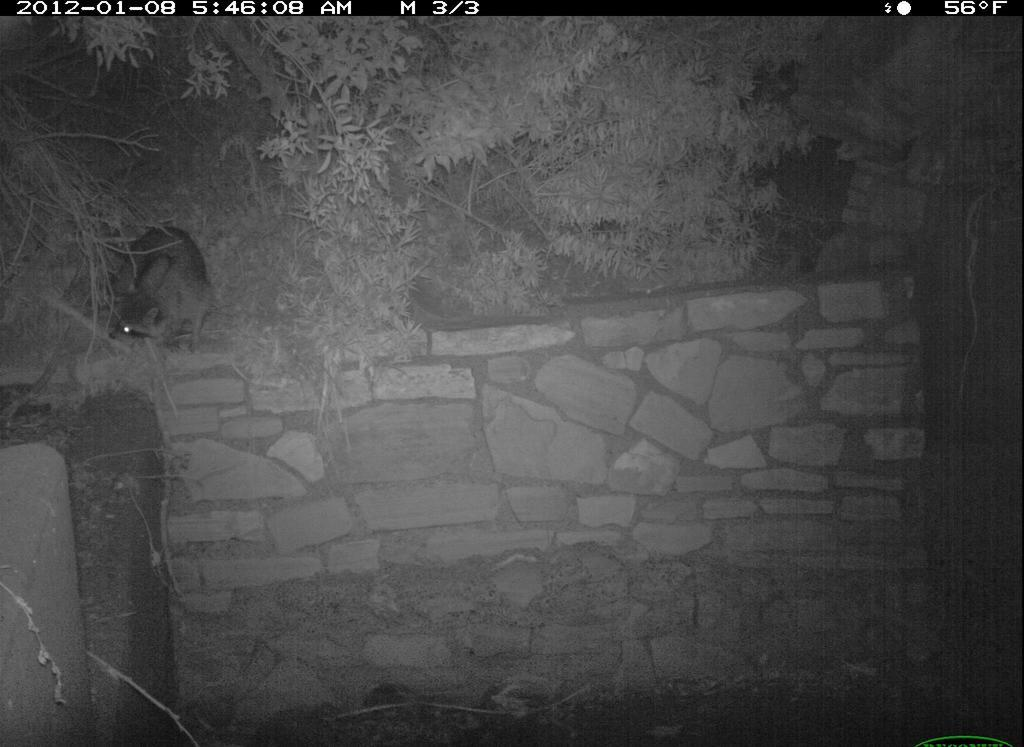raccoon: (104, 217, 221, 359)
